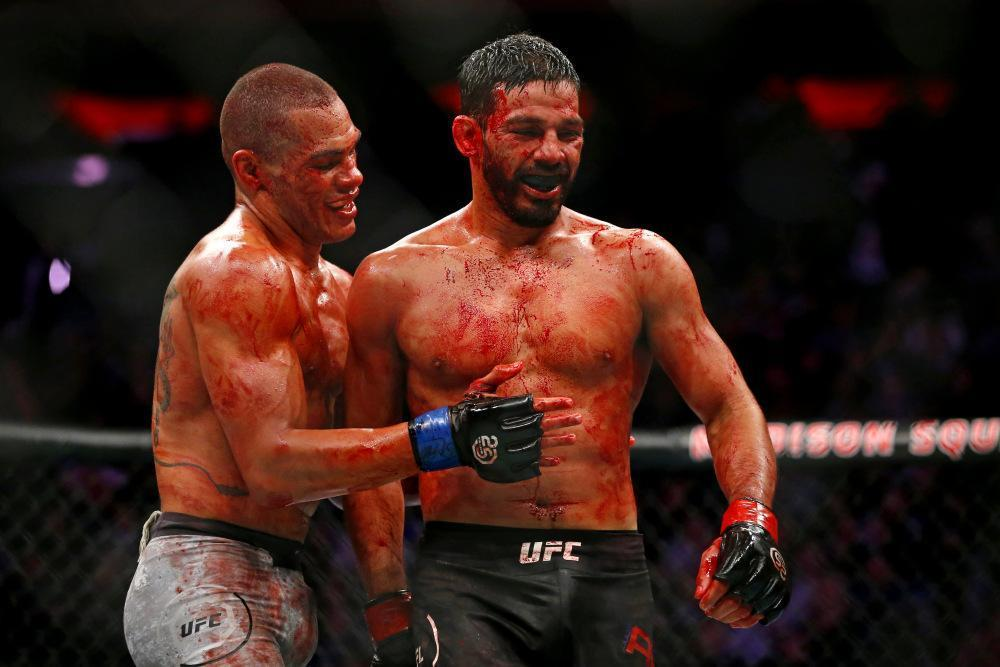Fire: (498, 207, 778, 530), (421, 259, 653, 530), (471, 80, 584, 228), (272, 99, 362, 252), (206, 268, 300, 354), (315, 435, 417, 470)
